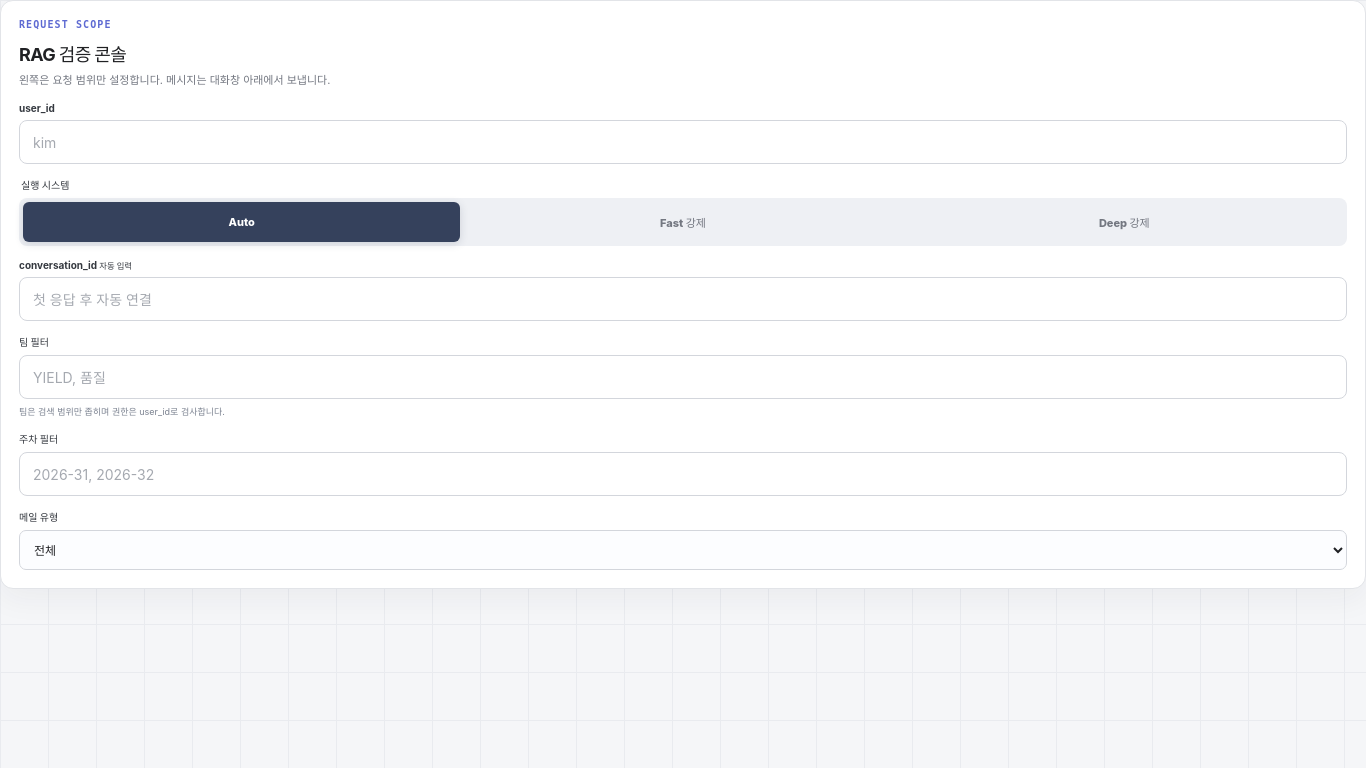
Test case: RequestPanel › withholds invalid week settings and explains the format
The image size is (1366, 768).
Type "2026-W31" into the field labelled "주차 필터" at (683, 474), box x1=19 y1=452 x2=1347 y2=496
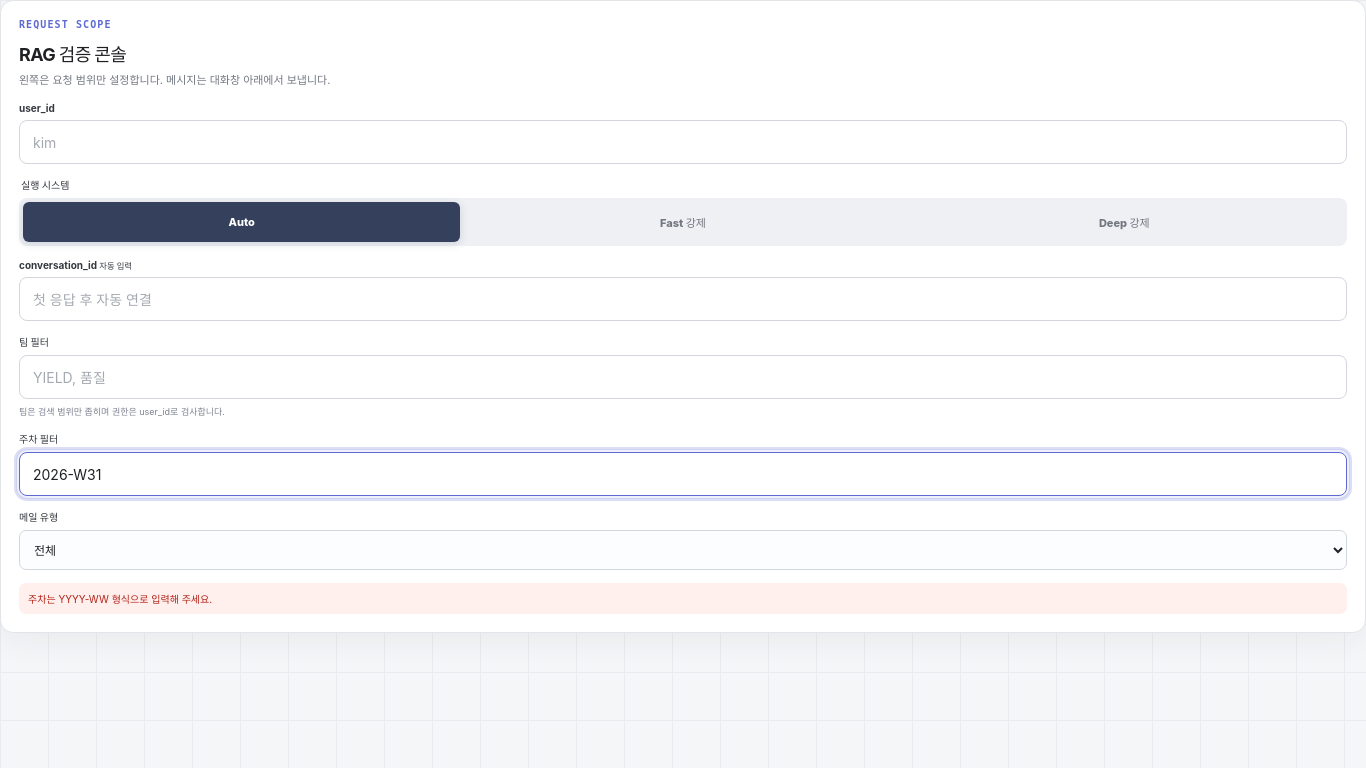
Now the message shows "YYYY-WW", box x1=28 y1=593 x2=212 y2=605
